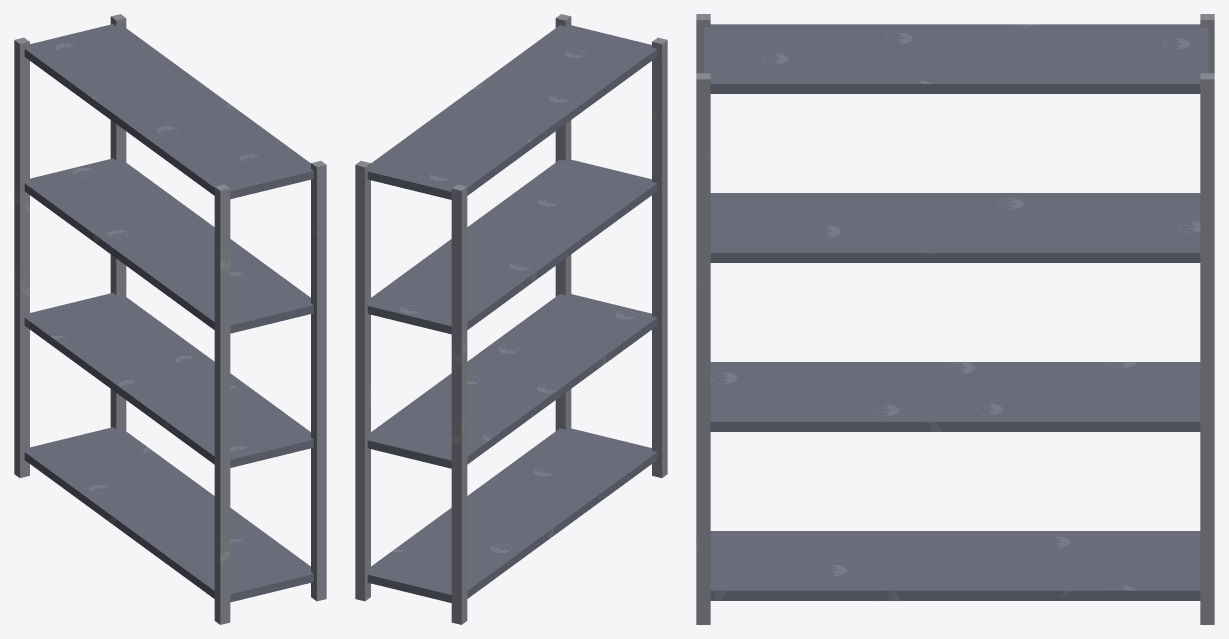
The model's file is Industrial Shelf.fbx.
3 renders of one model, left to right at view 1: azimuth 30°, elevation 25°; view 2: azimuth 150°, elevation 25°; view 3: azimuth 270°, elevation 25°, orthographic. The views are drawn at different scales.
Visible parts, largest first — view 1: Shelf; view 2: Shelf; view 3: Shelf.
Boxes of the visible parts, x1,y1,x2,y2 form: Shelf: [14, 14, 326, 624]; Shelf: [355, 14, 667, 624]; Shelf: [696, 14, 1214, 624].
Bounding box in the file's own units: 166 × 646 × 556.
